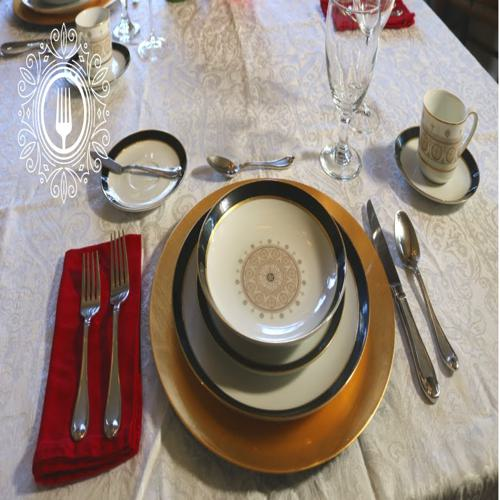copa: (322, 2, 371, 182)
